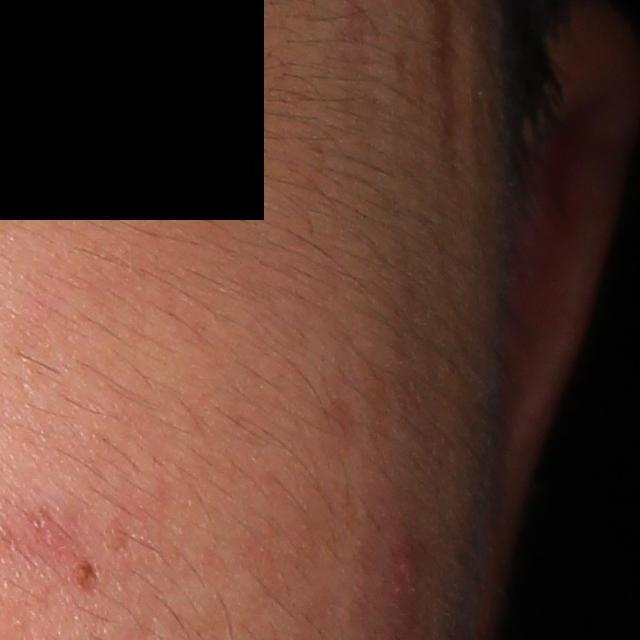nevus: (70, 560, 100, 597)
